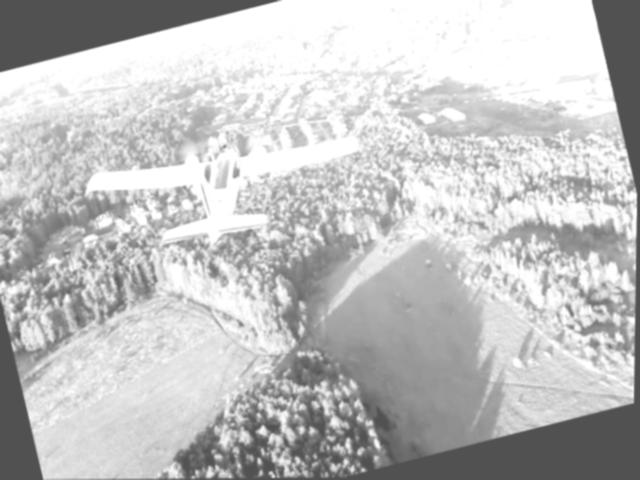hedef: (71, 100, 381, 282)
